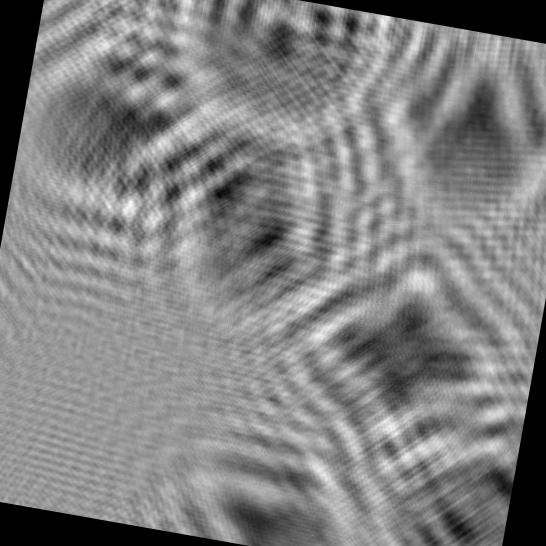U: (118, 0, 427, 174)
V: (4, 0, 241, 261), (333, 13, 546, 272), (117, 385, 393, 546)
X: (222, 186, 546, 496)
Z: (93, 53, 410, 376), (336, 341, 533, 546)
